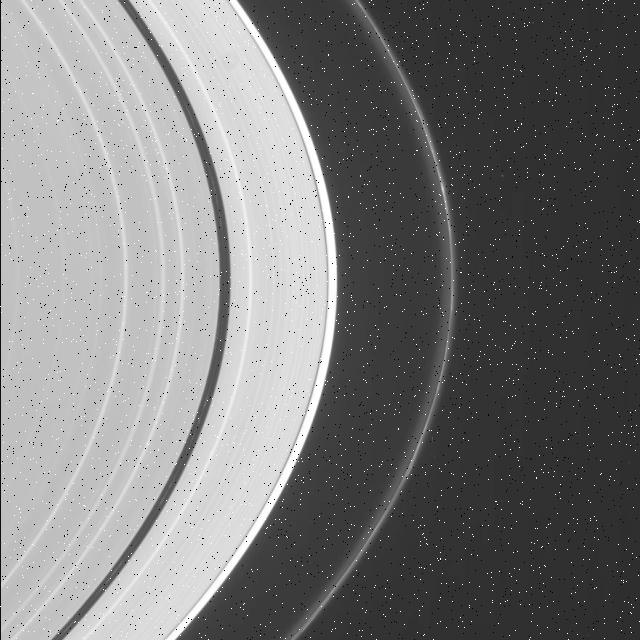Saturn: (1, 0, 457, 640)
